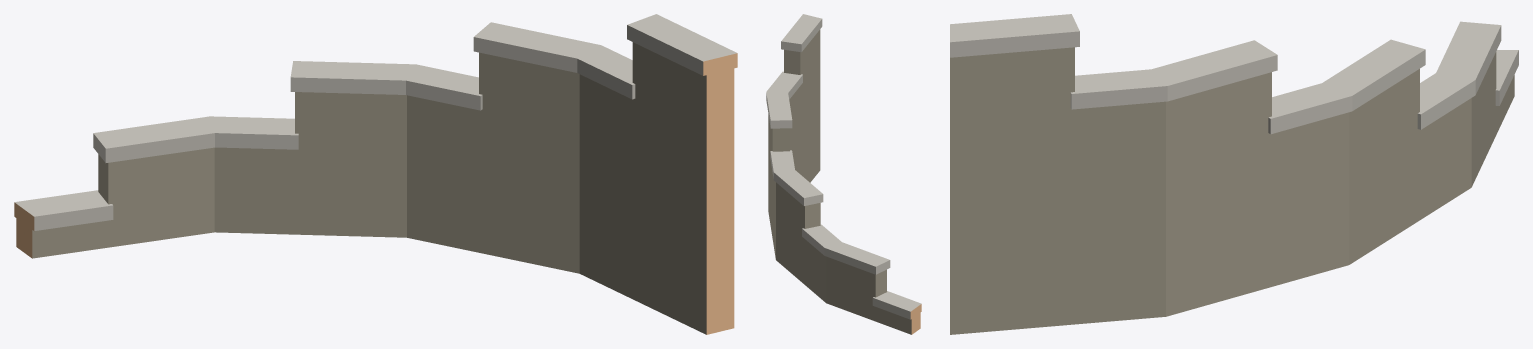
The model's file is Tiered_Retaining_Wall_Stepped_Curve_Tall_4x4.glb.
The picture shows the model from 3 angles, left to right: view 1: azimuth 30°, elevation 25°; view 2: azimuth 150°, elevation 25°; view 3: azimuth 270°, elevation 25°; orthographic projection. The views are drawn at different scales.
Parts seen in each view (by area): view 1: Tiered_Retaining_Wall_Stepped_Curve_Tall_4x4; view 2: Tiered_Retaining_Wall_Stepped_Curve_Tall_4x4; view 3: Tiered_Retaining_Wall_Stepped_Curve_Tall_4x4.
Boxes of the visible parts, left/top/right/bottom form: Tiered_Retaining_Wall_Stepped_Curve_Tall_4x4: left=14, top=14, right=737, bottom=334; Tiered_Retaining_Wall_Stepped_Curve_Tall_4x4: left=766, top=14, right=921, bottom=334; Tiered_Retaining_Wall_Stepped_Curve_Tall_4x4: left=950, top=14, right=1518, bottom=334.
Size of the model in its own units: 416 by 238 by 416.
